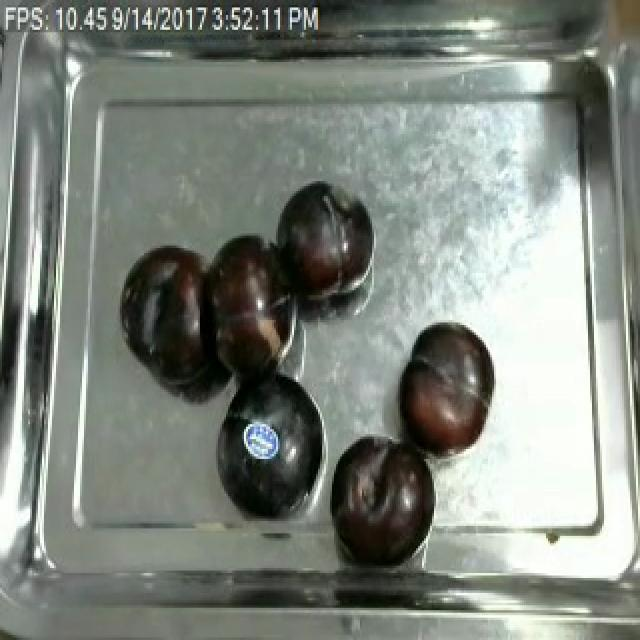Fruit: (208, 362, 332, 524), (390, 318, 502, 467), (326, 426, 440, 570), (266, 176, 378, 308), (118, 238, 216, 387), (202, 228, 292, 332)
